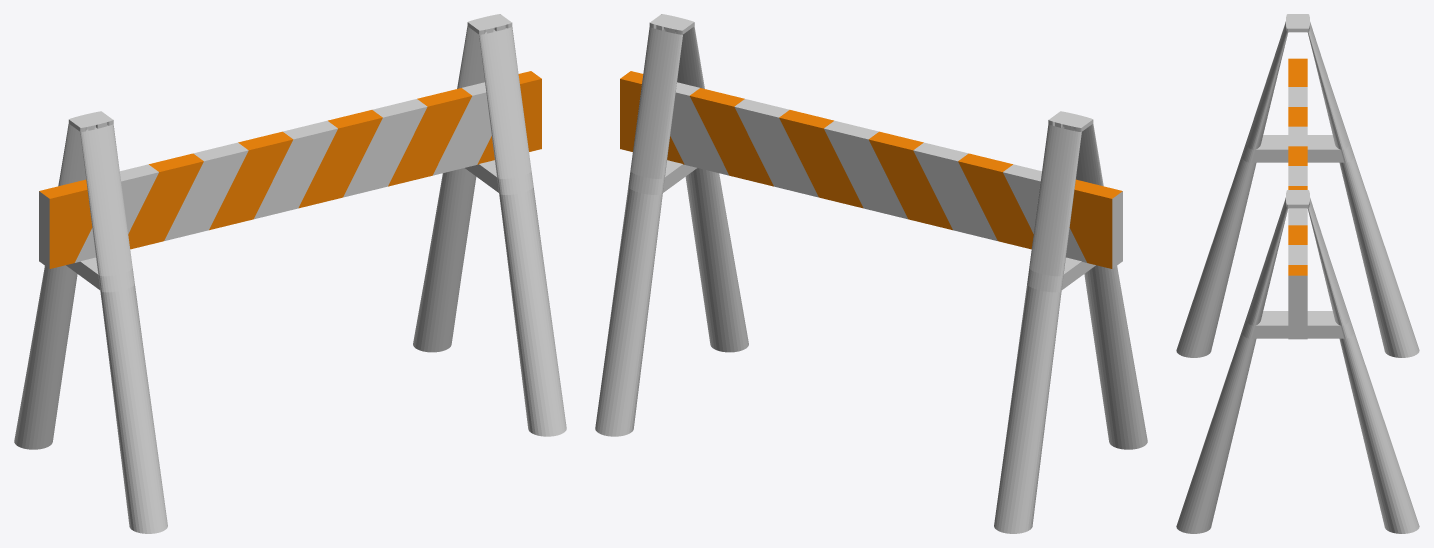
The model's file is sawhorse_barricade.glb.
3 views of the same model, side by side, from view 1: azimuth 30°, elevation 25°; view 2: azimuth 150°, elevation 25°; view 3: azimuth 270°, elevation 25° (orthographic). The views are drawn at different scales.
Parts seen in each view (by area): view 1: Cylinder; view 2: Cylinder; view 3: Cylinder.
Part boxes in pixels (bbox=[...]): Cylinder: bbox=[14, 14, 566, 533]; Cylinder: bbox=[595, 14, 1147, 533]; Cylinder: bbox=[1176, 14, 1419, 533].
Size of the model in its own units: 2.47 by 1.74 by 1.17.
